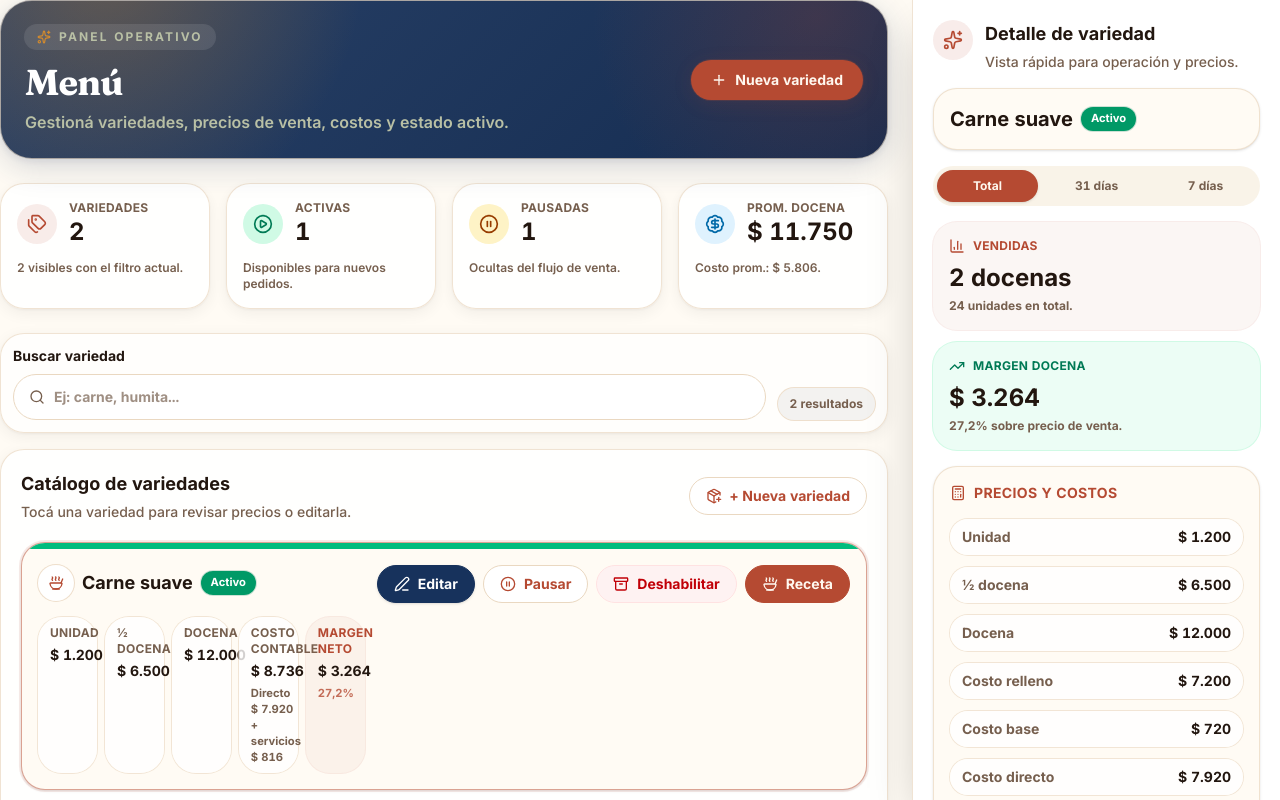
Test: MenuPage › scrolls to the edit form and focuses the name field when editing on desktop
The width and height of the screenshot is (1280, 800).
Step 1. Click the button "Editar" → (426, 584), box [377, 565, 475, 603]
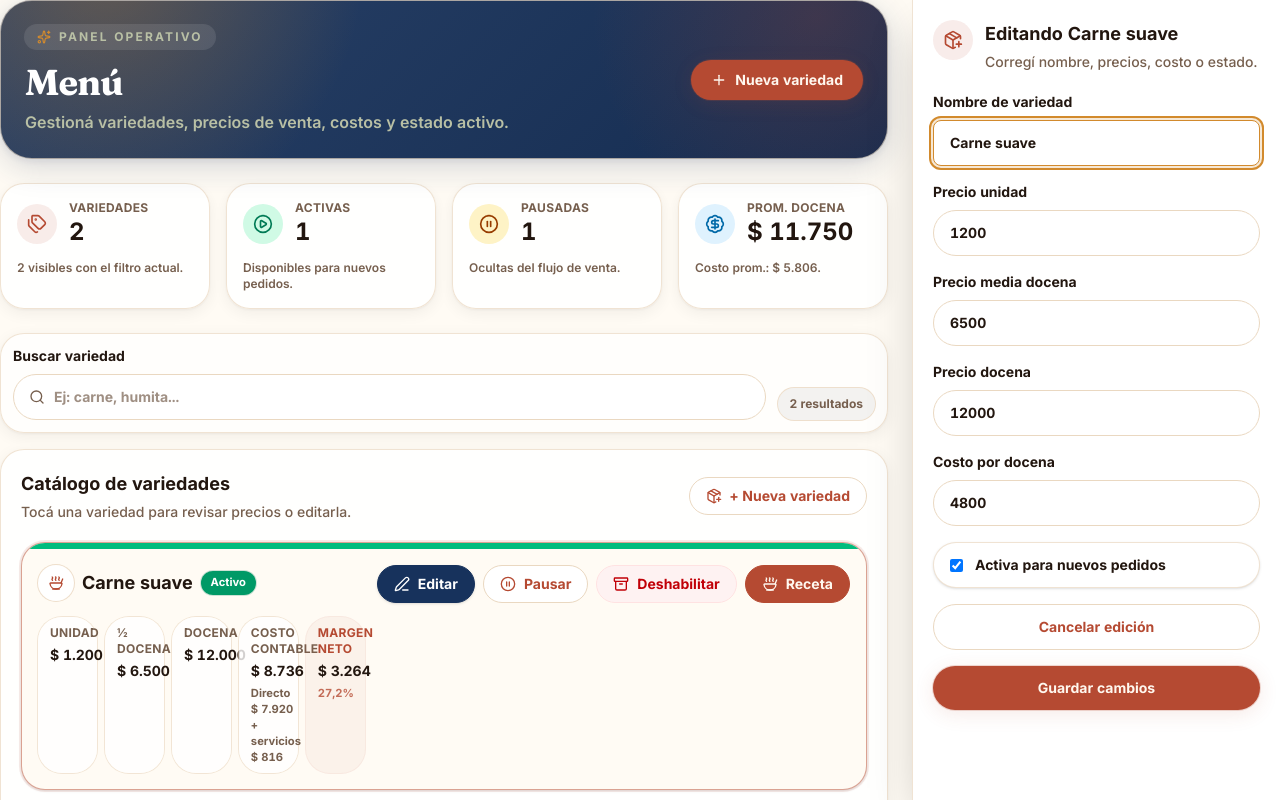
Expected: the element named "formulario de edición de variedad" shows "Editando Carne suave", [985, 23, 1178, 44]
